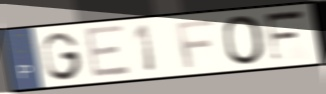1: (132, 22, 157, 75)
E: (81, 23, 134, 81)
F: (262, 8, 308, 65), (173, 17, 217, 70)
G: (40, 30, 85, 82)
O: (220, 14, 268, 67)
